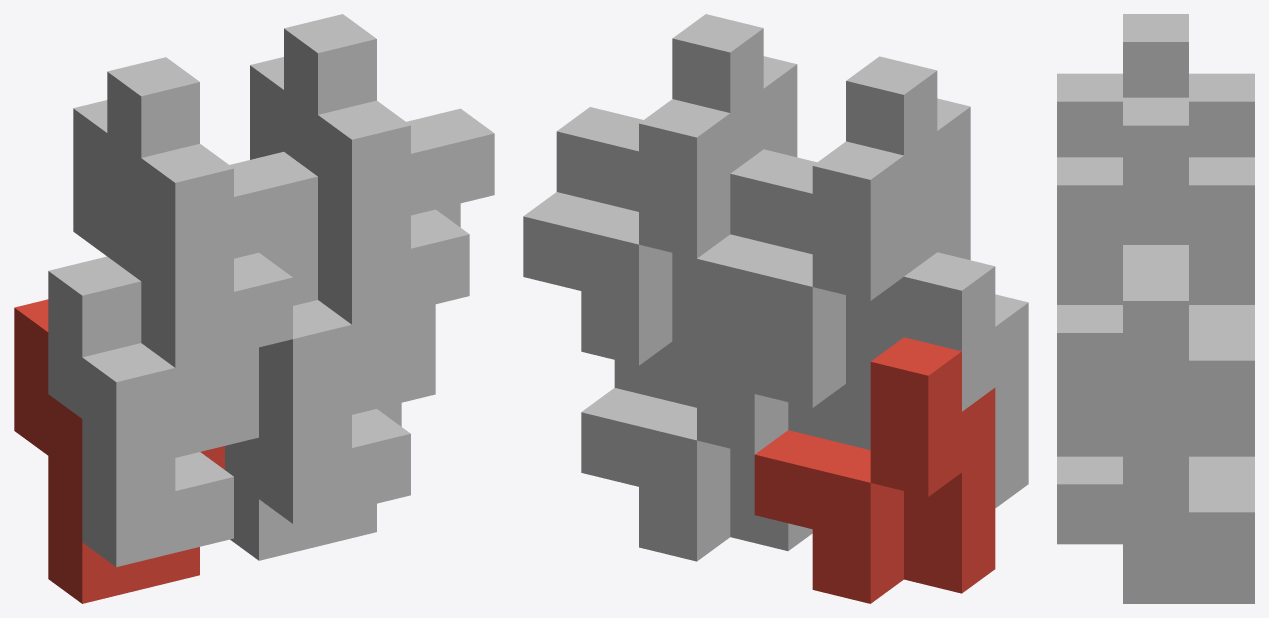
File: tiling.obj
The picture shows the model from 3 angles, left to right: view 1: azimuth 30°, elevation 25°; view 2: azimuth 150°, elevation 25°; view 3: azimuth 270°, elevation 25°; orthographic projection. The views are drawn at different scales.
Parts seen in each view (by area): view 1: copy_1_domain_4, copy_1_domain_8, copy_1_domain_2, copy_1_domain_6, copy_1_domain_1, copy_1_domain_3, copy_1_domain_5, copy_1_domain_7; view 2: copy_1_domain_1, copy_1_domain_3, copy_1_domain_7, copy_1_domain_5, copy_1_domain_4, copy_1_domain_8, copy_1_domain_2, copy_1_domain_6; view 3: copy_1_domain_8, copy_1_domain_7, copy_1_domain_6, copy_1_domain_5, copy_1_domain_4, copy_1_domain_3.
Part boxes in pixels (box(x1,y1,x2,y2)): copy_1_domain_4: box(107, 57, 317, 367); copy_1_domain_8: box(284, 14, 494, 324); copy_1_domain_2: box(48, 256, 258, 566); copy_1_domain_6: box(259, 238, 435, 523); copy_1_domain_1: box(14, 299, 224, 603); copy_1_domain_3: box(73, 100, 258, 396); copy_1_domain_5: box(225, 403, 401, 560); copy_1_domain_7: box(250, 57, 460, 352); copy_1_domain_1: box(754, 337, 995, 603); copy_1_domain_3: box(697, 141, 937, 407); copy_1_domain_7: box(523, 99, 730, 365); copy_1_domain_5: box(581, 319, 812, 561); copy_1_domain_4: box(730, 56, 970, 260); copy_1_domain_8: box(556, 14, 797, 211); copy_1_domain_2: box(788, 252, 1028, 508); copy_1_domain_6: box(614, 341, 696, 407); copy_1_domain_8: box(1057, 97, 1188, 392); copy_1_domain_7: box(1123, 157, 1254, 452); copy_1_domain_6: box(1057, 392, 1188, 544); copy_1_domain_5: box(1123, 452, 1254, 603); copy_1_domain_4: box(1057, 14, 1188, 157); copy_1_domain_3: box(1189, 73, 1254, 157).
Bounding box in the file's own units: 7 × 8 × 3.
